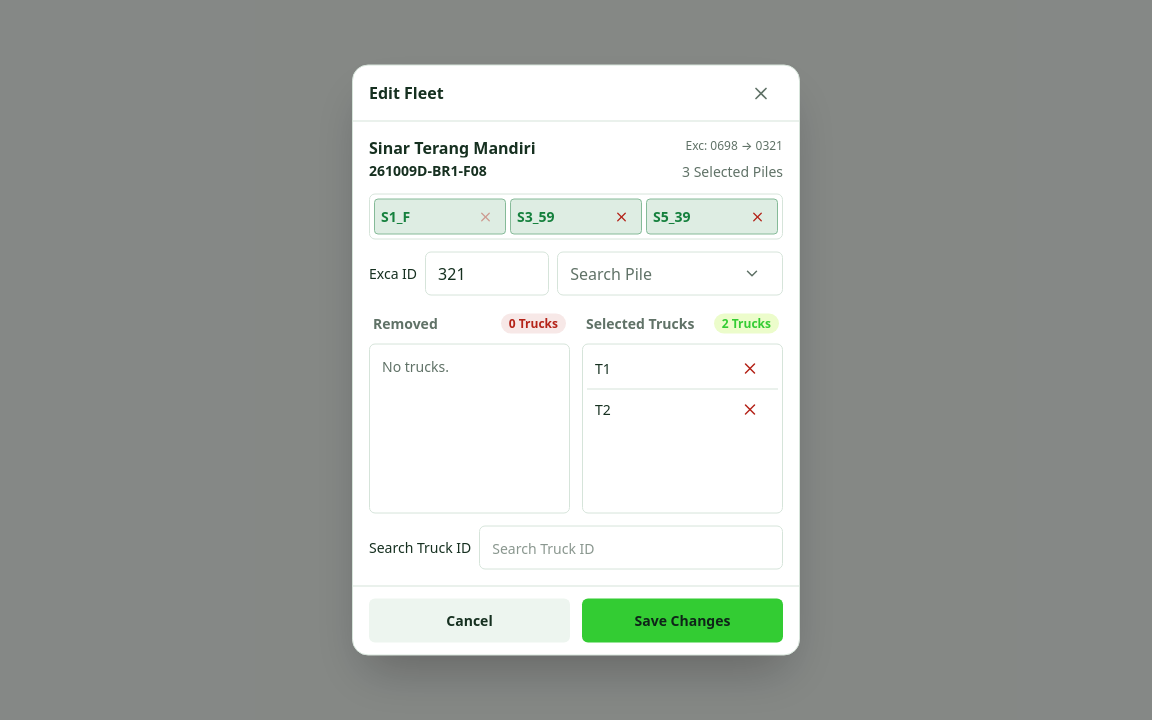
Test case: FleetRecordActionDialog › keeps a Production Pile protected while allowing another Pile to be removed
Expected: the button named "Remove Pile S1_F" is disabled, [471,202,499,230]
Click the button named "Remove Pile S3_59". click: (621, 216)
box: [607,202,635,230]
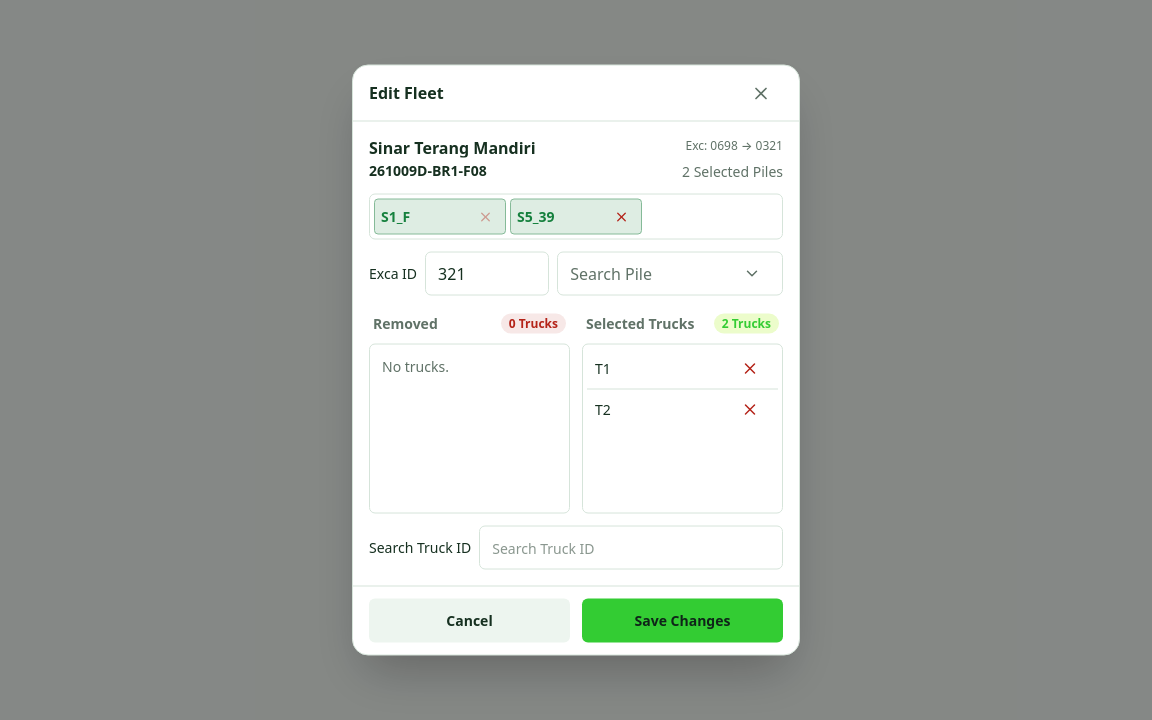
Now the text "S3_59" is gone
